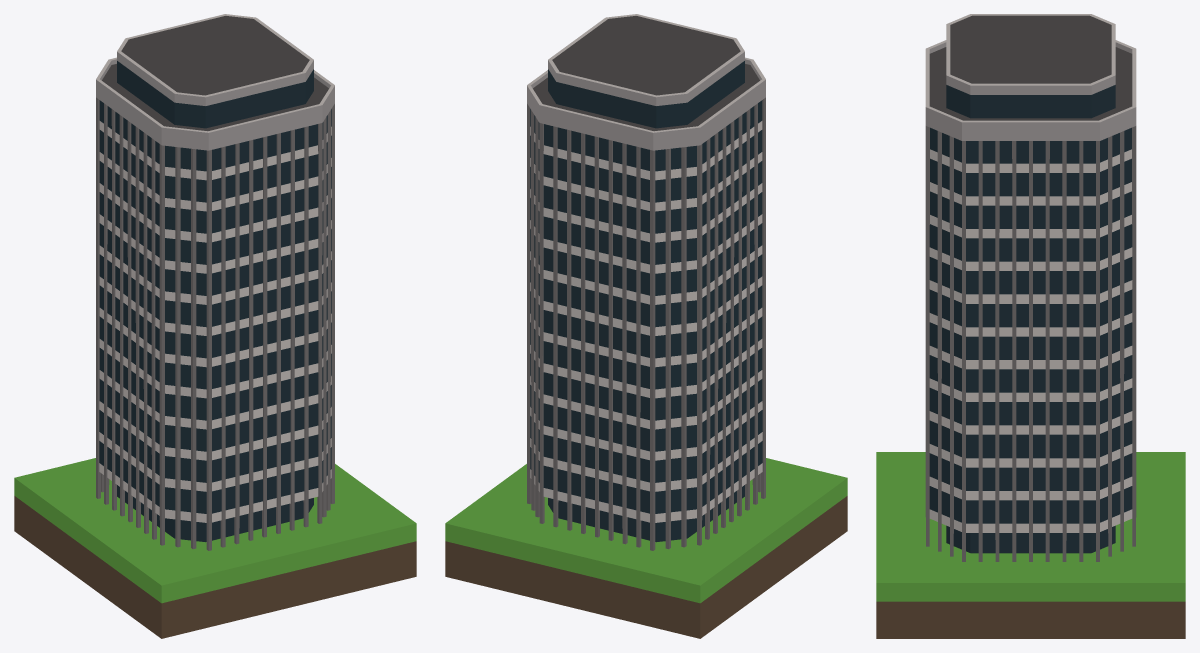
File: skyscraper-large.glb
The picture shows the model from 3 angles, left to right: view 1: azimuth 30°, elevation 25°; view 2: azimuth 150°, elevation 25°; view 3: azimuth 270°, elevation 25°; orthographic projection. The views are drawn at different scales.
Visible parts, largest first — view 1: skyscraper-large; view 2: skyscraper-large; view 3: skyscraper-large.
Part boxes in pixels (x1,y1,x2,y2): skyscraper-large: [14, 14, 416, 638]; skyscraper-large: [445, 14, 847, 638]; skyscraper-large: [876, 14, 1185, 638].
Size of the model in its own units: 30 by 56 by 30.
1 material, 1 textured.
